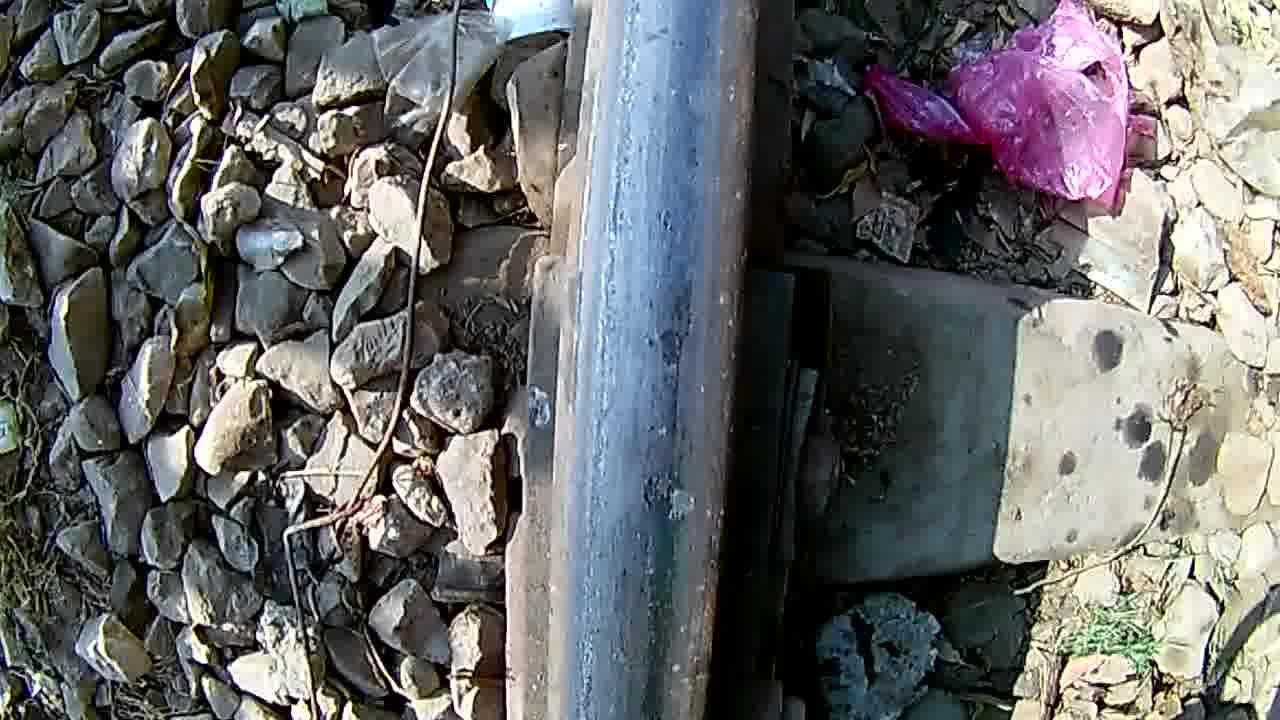crack: (568, 3, 752, 720)
